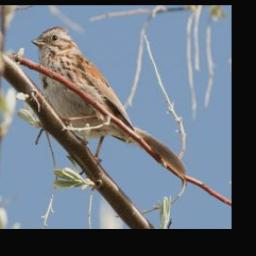Sparrow: (31, 26, 188, 179)
